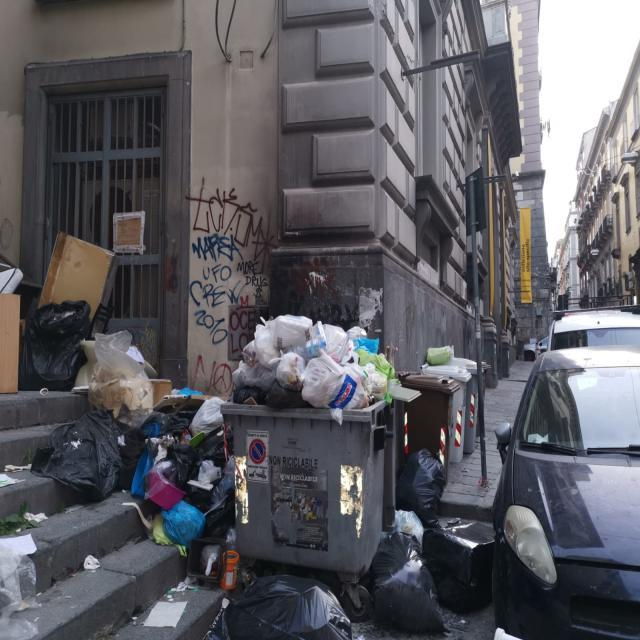Trashbag: (47, 404, 137, 494), (232, 572, 351, 640), (370, 533, 445, 627), (24, 306, 102, 383), (402, 449, 452, 510)
